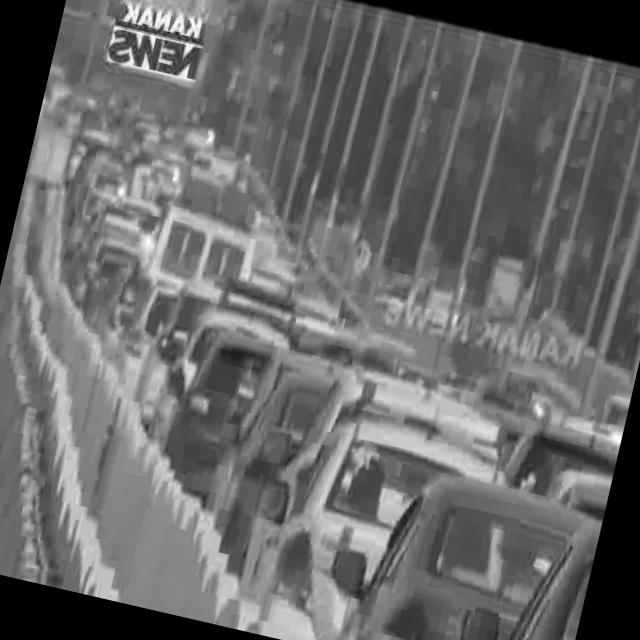ambulance: (155, 172, 272, 290)
